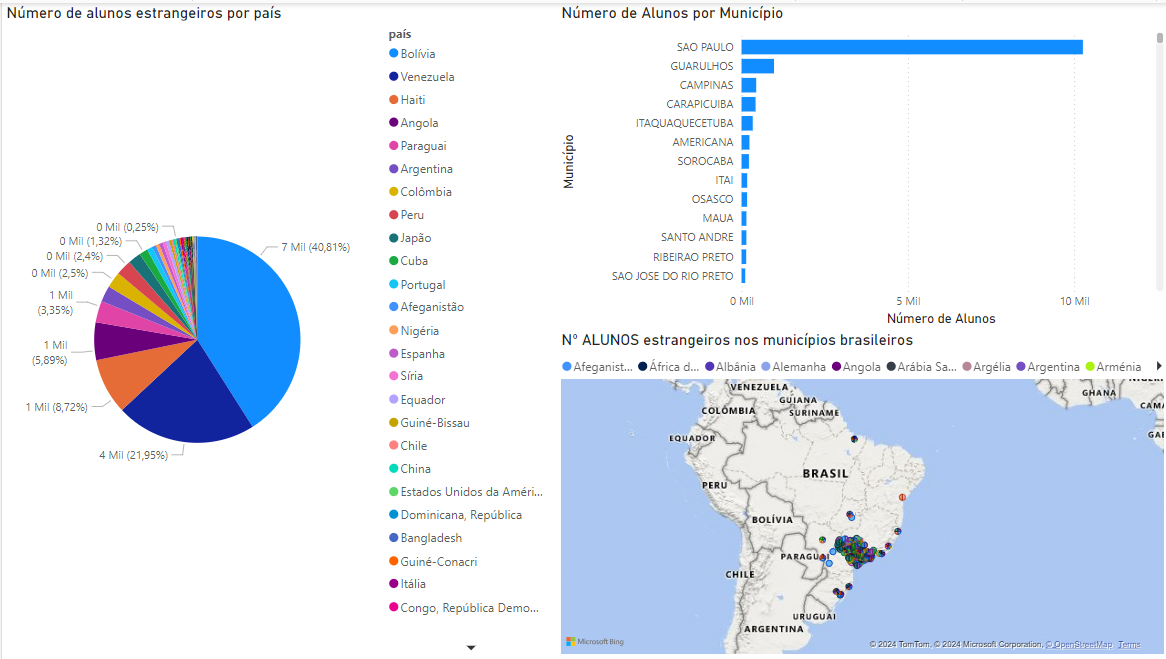

This screenshot's page, from the dashboard's own definition file:
{"tool":"powerbi","page":{"name":"Página 1","canvas":[1280,720],"ordinal":0},"visuals":[{"type":"pieChart","title":"Número de alunos estrangeiros por país","fields":{"Y":["Sum(Quantidade de alunos estrangeiros por nacionalidade_2° Semestre 2023. Nº ALUNOS )"],"Category":["Quantidade de alunos estrangeiros por nacionalidade_2° Semestre 2023.DS_PAIS"]},"box":[0,0,609.3,720.4],"z":0},{"type":"clusteredBarChart","fields":{"Category":["Quantidade de alunos estrangeiros por nacionalidade_2° Semestre 2023.MUN"],"Y":["Sum(Quantidade de alunos estrangeiros por nacionalidade_2° Semestre 2023. Nº ALUNOS )"]},"box":[609.3,0,671,359.5],"z":1},{"type":"map","title":"Nº ALUNOS estrangeiros nos municípios brasileiros","fields":{"Series":["Quantidade de alunos estrangeiros por nacionalidade_2° Semestre 2023.DS_PAIS"],"Category":["Quantidade de alunos estrangeiros por nacionalidade_2° Semestre 2023.DISTR"],"Y":["Avg(Quantidade de alunos estrangeiros por nacionalidade_2° Semestre 2023. Nº ALUNOS )"],"X":["Min(Quantidade de alunos estrangeiros por nacionalidade_2° Semestre 2023.MUN)"]},"box":[609.3,359.5,671,360.9],"z":2}]}

Visuals, with their boxes in screenshot pixels (x1, y1, x2, y2), scaled from the page's 1280x720 canvas onto the 1166x659 screenshot:
"Número de alunos estrangeiros por país" pieChart: crop(0, 0, 555, 658)
clusteredBarChart - Quantidade de alunos estrangeiros por nacionalidade_2° Semestre 2023.MUN x Sum(Quantidade de alunos estrangeiros por nacionalidade_2° Semestre 2023. Nº ALUNOS ): crop(555, 0, 1165, 329)
"Nº ALUNOS estrangeiros nos municípios brasileiros" map: crop(555, 329, 1165, 658)
